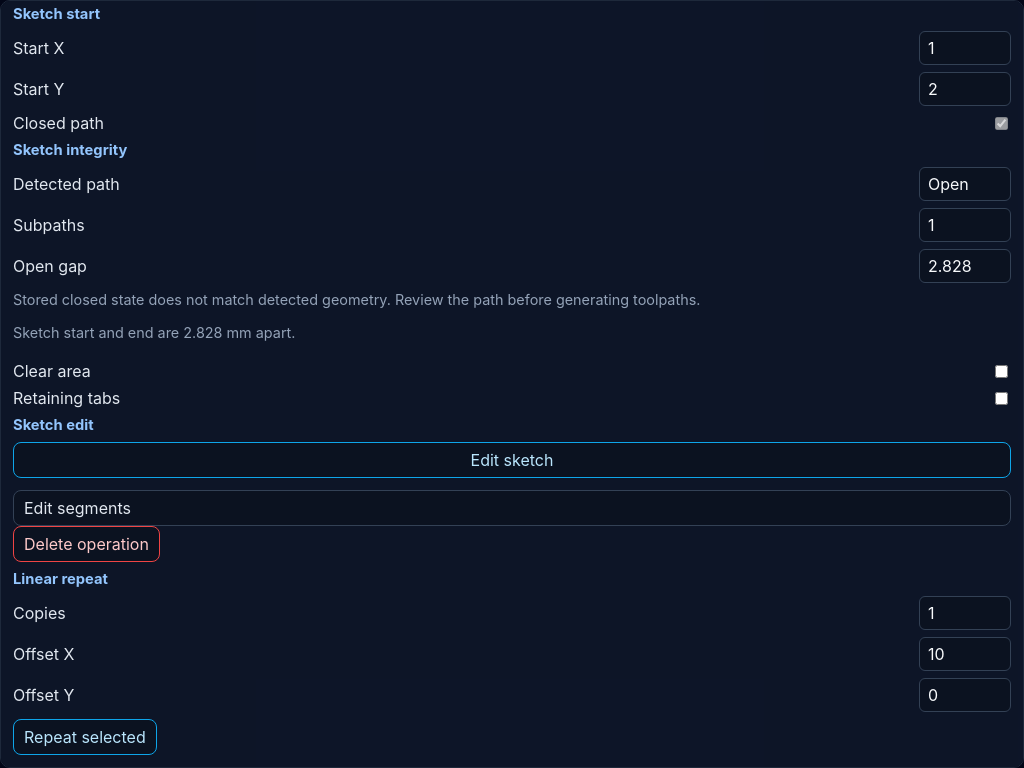
Scenario: OperationsPanel › keeps sketch segment coordinates collapsed until requested
The width and height of the screenshot is (1024, 768).
(page scrolled)
Expected: the field labelled "End X" is not shown
Click the button "Edit segments": (77, 508) [13, 490, 1011, 526]
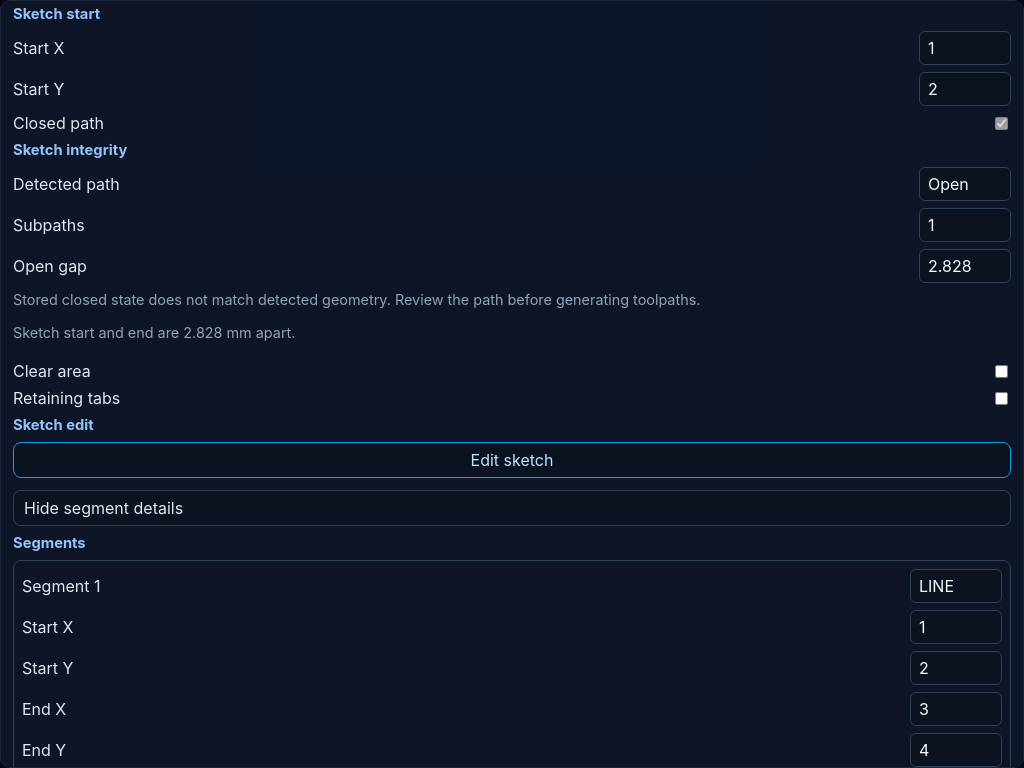
Now the number of fields labelled "Start X" is 2, box [919, 31, 1011, 65]; [910, 610, 1002, 644]
Now the number of fields labelled "Start Y" is 2, box [919, 72, 1011, 106]; [910, 651, 1002, 685]
Now the field labelled "End X" is shown, box [910, 692, 1002, 726]
